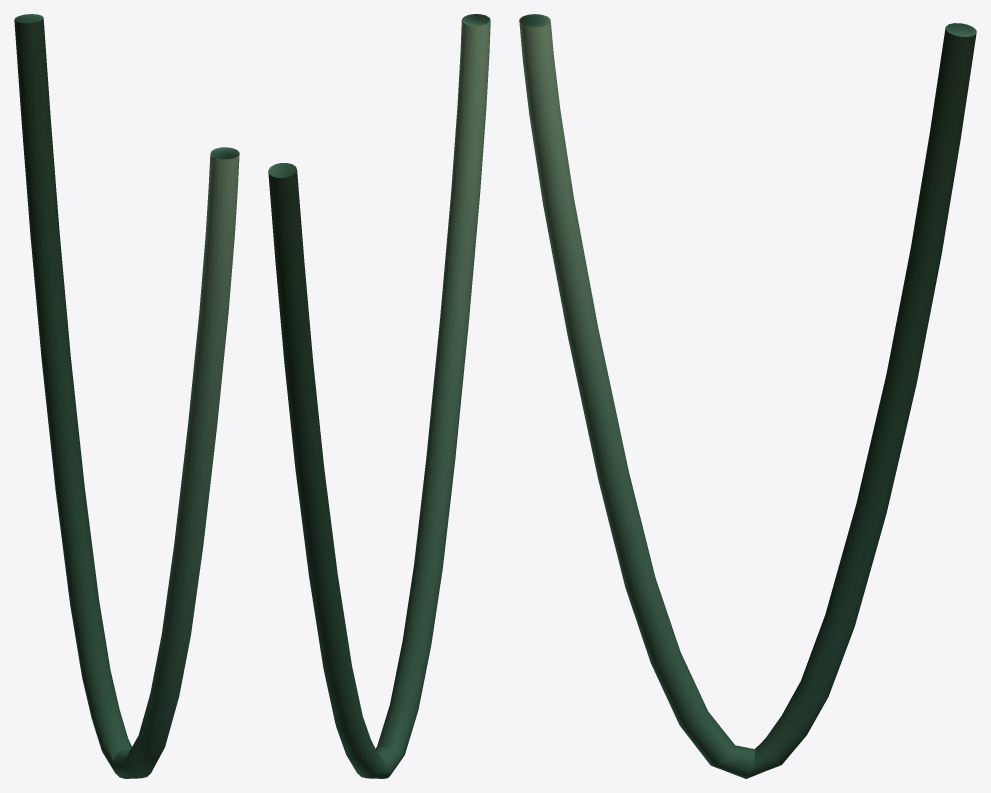
The model's file is y=kx^2 parabola mayor.fbx.
3 renders of one model, left to right at view 1: azimuth 30°, elevation 25°; view 2: azimuth 150°, elevation 25°; view 3: azimuth 270°, elevation 25°, orthographic. The views are drawn at different scales.
Visible parts, largest first — view 1: Mesh11; view 2: Mesh11; view 3: Mesh11.
Part boxes in pixels (bbox=[...]): Mesh11: bbox=[14, 14, 239, 778]; Mesh11: bbox=[268, 14, 490, 778]; Mesh11: bbox=[519, 14, 976, 778].
Bounding box in the file's own units: 0.7922 × 20.59 × 11.27.
